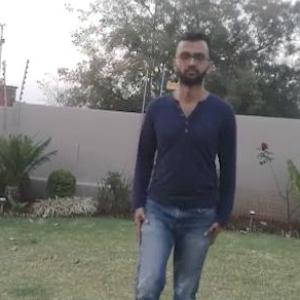follow: (132, 41, 232, 299)
